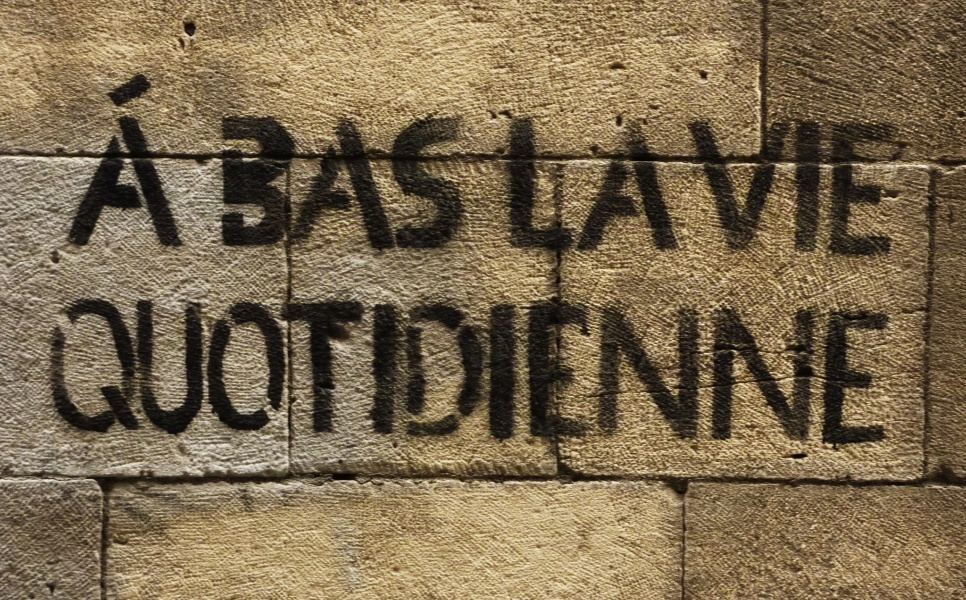text: (81, 72, 96, 246), (97, 72, 112, 246), (113, 72, 128, 246), (129, 72, 144, 246), (145, 72, 160, 246), (161, 72, 176, 246), (177, 72, 192, 246), (65, 296, 80, 447), (81, 296, 96, 447), (97, 296, 112, 447), (113, 296, 128, 447), (129, 296, 144, 447), (145, 296, 160, 447), (161, 296, 176, 447), (177, 296, 192, 447), (193, 296, 208, 447), (209, 296, 224, 447), (225, 296, 240, 447), (241, 296, 256, 447), (257, 296, 272, 447), (273, 296, 288, 447), (289, 296, 304, 447), (305, 296, 320, 447), (321, 296, 336, 447), (337, 296, 352, 447), (353, 296, 368, 447), (369, 296, 384, 447), (385, 296, 400, 447), (401, 296, 416, 447), (417, 296, 432, 447), (433, 296, 448, 447), (449, 296, 464, 447), (465, 296, 480, 447), (481, 296, 496, 447), (497, 296, 512, 447), (513, 296, 528, 447), (529, 296, 544, 447), (545, 296, 560, 447), (561, 296, 576, 447), (577, 296, 592, 447), (593, 296, 608, 447), (609, 296, 624, 447), (625, 296, 640, 447), (641, 296, 656, 447), (657, 296, 672, 447), (673, 296, 688, 447), (689, 296, 704, 447), (705, 296, 720, 447), (721, 296, 736, 447), (737, 296, 752, 447), (753, 296, 768, 447), (769, 296, 784, 447), (785, 296, 800, 447), (801, 296, 816, 447), (817, 296, 832, 447), (833, 296, 848, 447), (849, 296, 864, 447), (865, 296, 880, 447), (689, 118, 704, 255), (705, 118, 720, 255), (721, 118, 736, 255), (737, 118, 752, 255), (753, 118, 768, 255), (769, 118, 784, 255), (785, 118, 800, 255), (801, 118, 816, 255), (817, 118, 832, 255), (833, 118, 848, 255), (849, 118, 864, 255), (865, 118, 880, 255), (881, 118, 896, 255), (513, 118, 528, 253), (529, 118, 544, 253), (545, 118, 560, 253), (561, 118, 576, 253), (577, 118, 592, 253), (593, 118, 608, 253), (609, 118, 624, 253), (625, 118, 640, 253), (641, 118, 656, 253), (657, 118, 672, 253), (225, 115, 240, 248), (241, 115, 256, 248), (257, 115, 272, 248), (273, 115, 288, 248), (289, 115, 304, 248), (305, 115, 320, 248), (321, 115, 336, 248), (337, 115, 352, 248), (353, 115, 368, 248), (369, 115, 384, 248), (385, 115, 400, 248), (401, 115, 416, 248), (417, 115, 432, 248), (433, 115, 448, 248), (449, 115, 464, 248), (51, 296, 64, 447), (881, 296, 894, 447), (72, 72, 80, 246), (673, 118, 679, 253), (219, 115, 224, 248), (508, 118, 512, 253), (685, 118, 688, 255), (897, 118, 900, 255), (465, 115, 467, 248)
